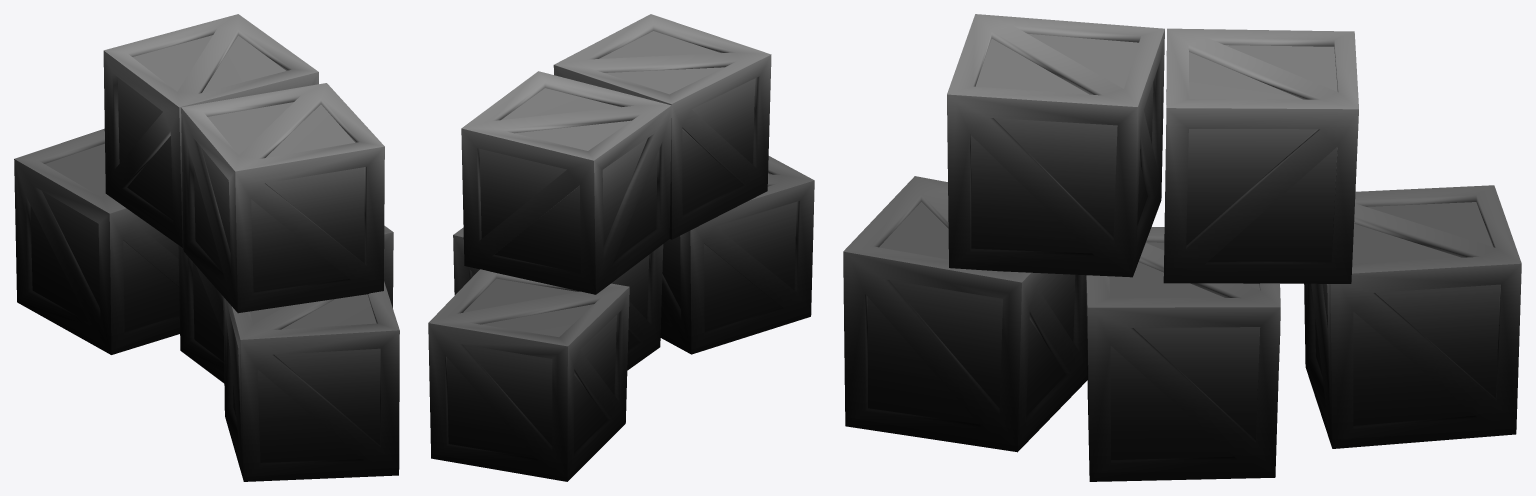
File: Cover3.glb
3 renders of one model, left to right at view 1: azimuth 30°, elevation 25°; view 2: azimuth 150°, elevation 25°; view 3: azimuth 270°, elevation 25°, orthographic. The views are drawn at different scales.
Visible parts, largest first — view 1: Cover3; view 2: Cover3; view 3: Cover3.
Part boxes in pixels (bbox=[...]): Cover3: bbox=[14, 14, 399, 481]; Cover3: bbox=[428, 14, 814, 481]; Cover3: bbox=[843, 14, 1521, 481].
Size of what is drawn, in the model's own units: 2.76 by 3.43 by 6.03.
1 material, 1 textured.
